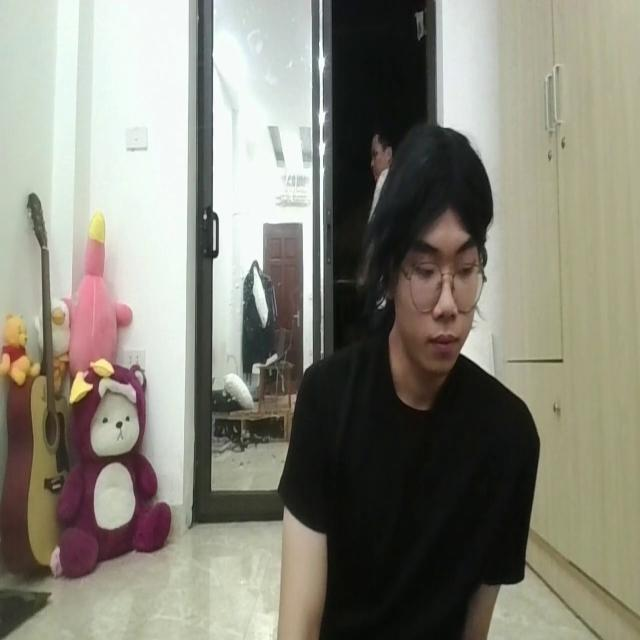student: (265, 124, 541, 640)
